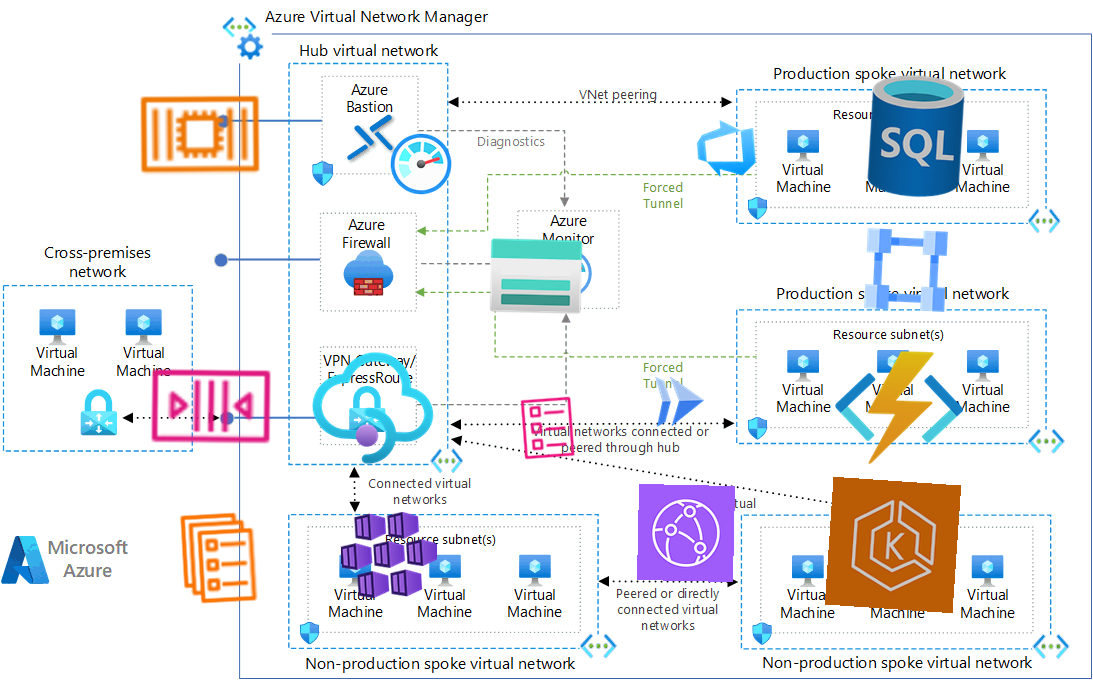aws_amazon_cloudfront: (636, 483, 736, 583)
aws_amazon_elastic_kubernetes_service: (824, 476, 962, 614)
aws_cloudformation_template: (512, 393, 582, 463)
aws_elastic_container_service_container_2: (135, 69, 265, 199)
aws_elastic_container_service_service: (168, 507, 270, 609)
aws_simple_queue_service_queue: (146, 340, 276, 470)
azure_api_management_services: (305, 340, 441, 476)
azure_devops: (691, 113, 761, 183)
azure_function_apps: (832, 341, 966, 475)
azure_kubernetes_services: (338, 503, 440, 605)
azure_monitor: (386, 129, 456, 199)
azure_sql_database: (848, 68, 984, 204)
azure_storage_accounts: (486, 226, 586, 326)
gcp_cloud_run: (645, 367, 713, 435)
gcp_virtual_private_cloud: (855, 219, 957, 321)
